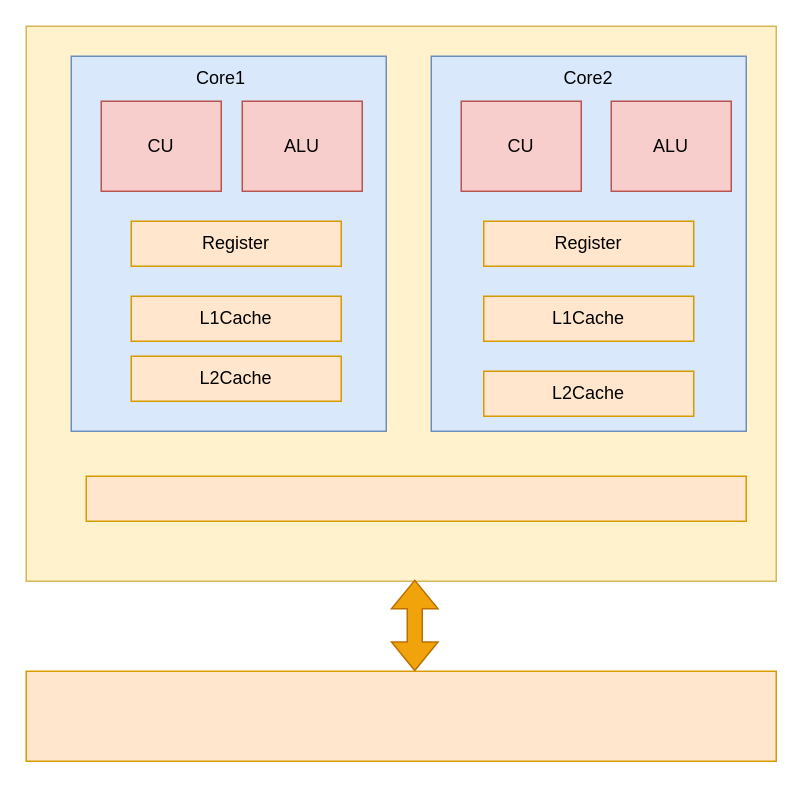
Image size: 803x788. Some labels were removed from this diagram. The box of each missing label's shape, as (x1, y1, x2, y2) in pixels:
main-memory 主存: (25, 670, 776, 761)
Shared L3 Cache: (85, 475, 746, 521)
